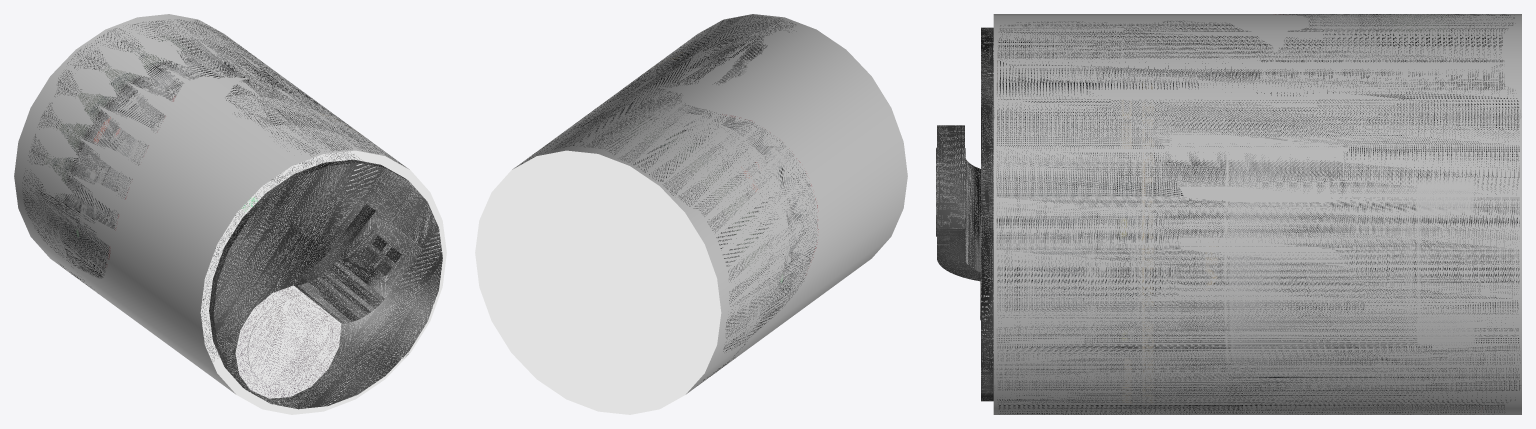
File: model_scale.obj
3 renders of one model, left to right at view 1: azimuth 30°, elevation 25°; view 2: azimuth 150°, elevation 25°; view 3: azimuth 270°, elevation 25°, orthographic. The views are drawn at different scales.
Parts seen in each view (by area): view 1: mesh1_mesh1-geometry; view 2: mesh1_mesh1-geometry; view 3: mesh1_mesh1-geometry.
Boxes of the visible parts, x1,y1,x2,y2 form: mesh1_mesh1-geometry: [14, 14, 446, 414]; mesh1_mesh1-geometry: [475, 14, 907, 414]; mesh1_mesh1-geometry: [936, 14, 1521, 414].
Size of the model in its own units: 0.069 by 0.069 by 0.1004.
